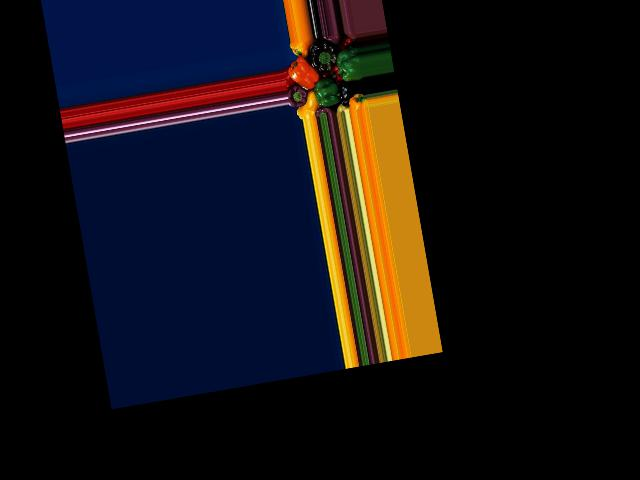bell_pepper: (336, 45, 364, 81)
